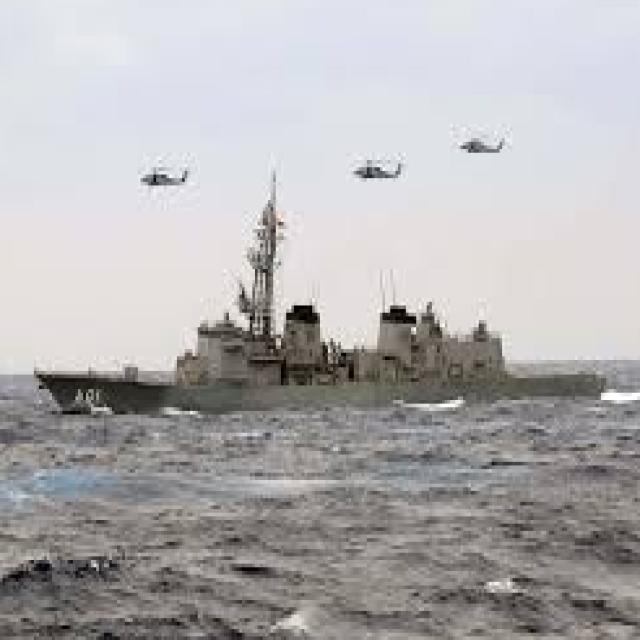navalvessels: (21, 192, 600, 418)
